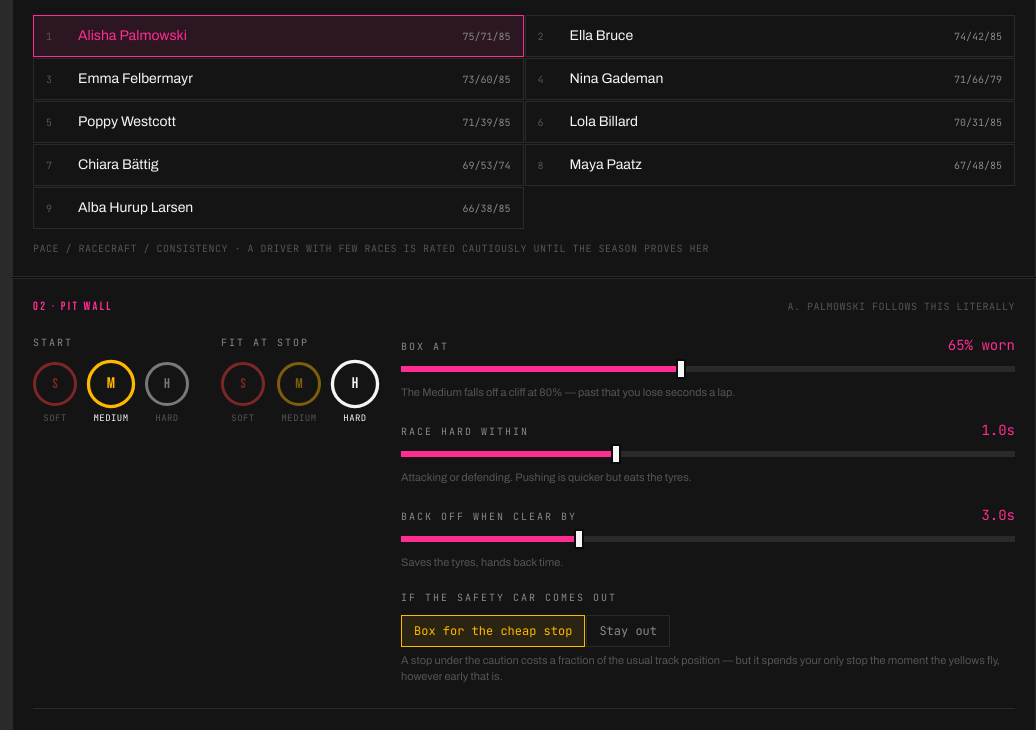
Test: QuickRace — the pit wall › warns BEFORE the lights when the plan runs the tyre past its cliff
Click the button "S Soft" below "Start" at [55, 394], box x1=33 y1=362 x2=77 y2=426
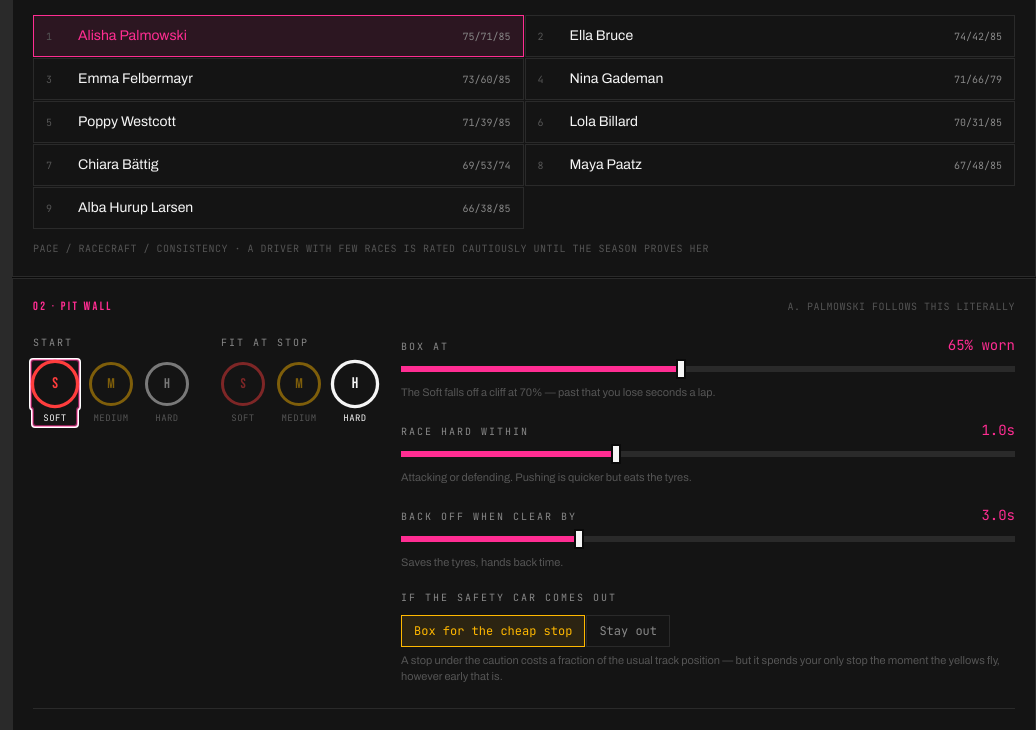
Set the slider labelled "Box at" to "90" at [953, 369], box x1=401 y1=366 x2=1015 y2=372
(page scrolled)
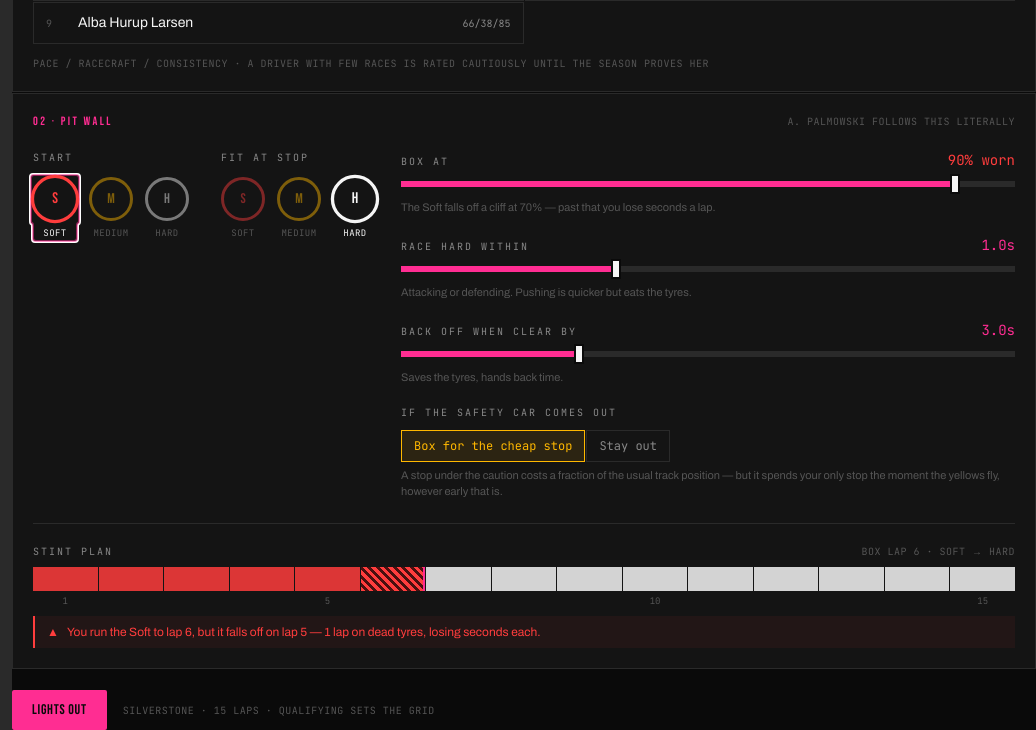
Now the text "on dead tyres" is shown, box x1=67 y1=625 x2=541 y2=639
